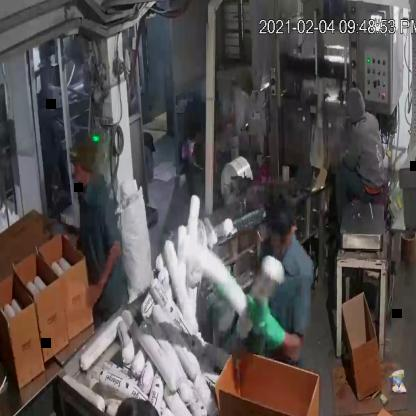glove: (238, 282, 298, 363)
no_glove: (67, 226, 128, 318)
